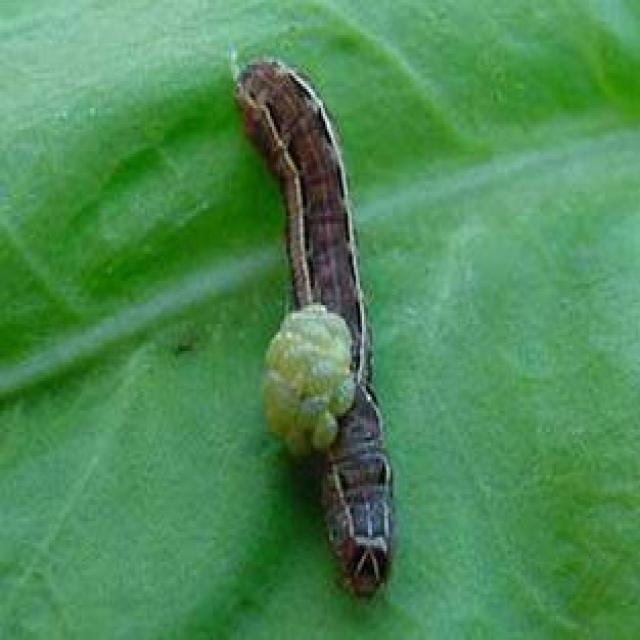BeetArmyWorm-Larva-: (225, 49, 398, 610)
